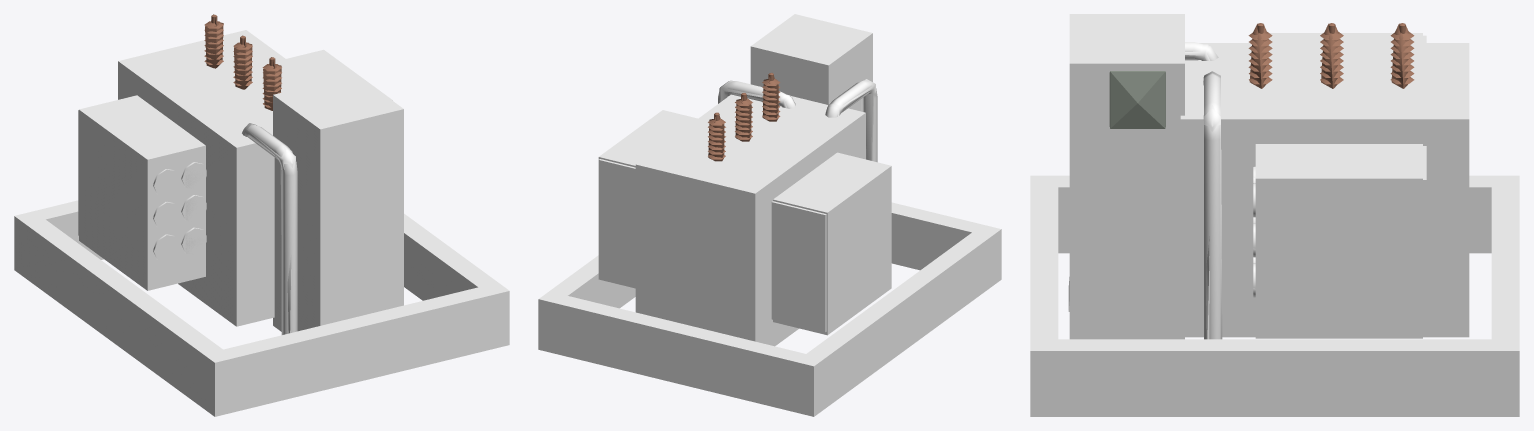
Rendered from substation_transformer.dae.
3 views of the same model, side by side, from view 1: azimuth 30°, elevation 25°; view 2: azimuth 150°, elevation 25°; view 3: azimuth 270°, elevation 25° (orthographic). The views are drawn at different scales.
Visible parts, largest first — view 1: Colmesh-1, substation_transformer_a500, substation_transformer_a200; view 2: Colmesh-1, substation_transformer_a500, substation_transformer_a200; view 3: Colmesh-1, substation_transformer_a500, substation_transformer_a200.
Part boxes in pixels (x1,y1,x2,y2): Colmesh-1: (79,30,403,331); substation_transformer_a500: (14,14,509,416); substation_transformer_a200: (14,14,481,416); Colmesh-1: (598,14,891,346); substation_transformer_a500: (538,72,1001,416); substation_transformer_a200: (538,74,1001,416); Colmesh-1: (1069,14,1469,339); substation_transformer_a500: (1030,23,1519,416); substation_transformer_a200: (1030,23,1519,416).
Size of the model in its own units: 6.35 by 7.49 by 5.22.
